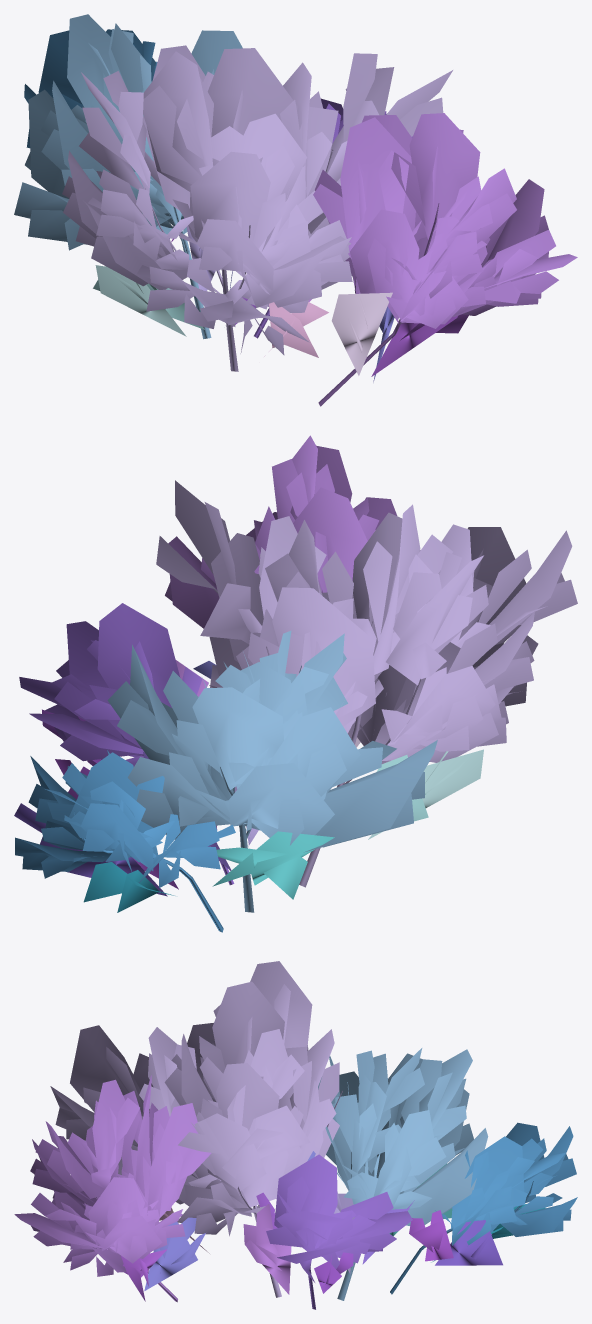
3 views of the same model, one above another, from view 1: azimuth 30°, elevation 25°; view 2: azimuth 150°, elevation 25°; view 3: azimuth 270°, elevation 25° (orthographic). The views are drawn at different scales.
Parts seen in each view (by area): view 1: SM_BS_Ephedra_86cm_HD; view 2: SM_BS_Ephedra_86cm_HD; view 3: SM_BS_Ephedra_86cm_HD.
Boxes of the visible parts, x1,y1,x2,y2 form: SM_BS_Ephedra_86cm_HD: (14,14,577,406); SM_BS_Ephedra_86cm_HD: (14,435,577,932); SM_BS_Ephedra_86cm_HD: (14,961,577,1309).
Bounding box in the file's own units: 69.29 × 46.22 × 38.71.
